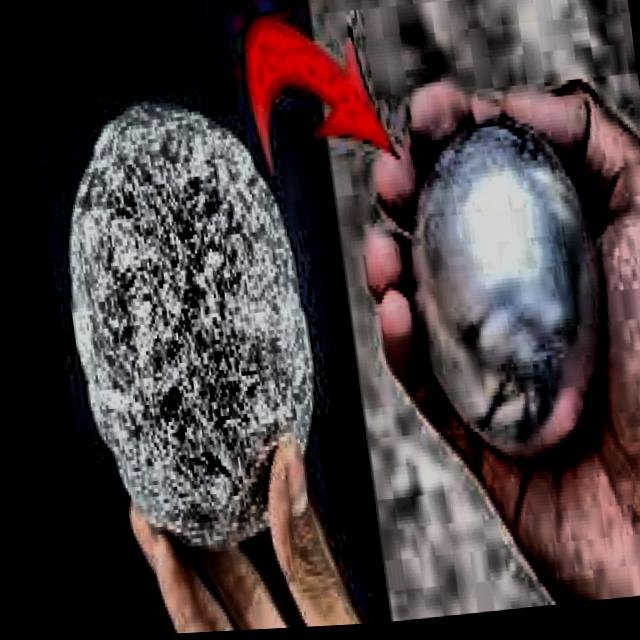Foil: (33, 79, 342, 583)
